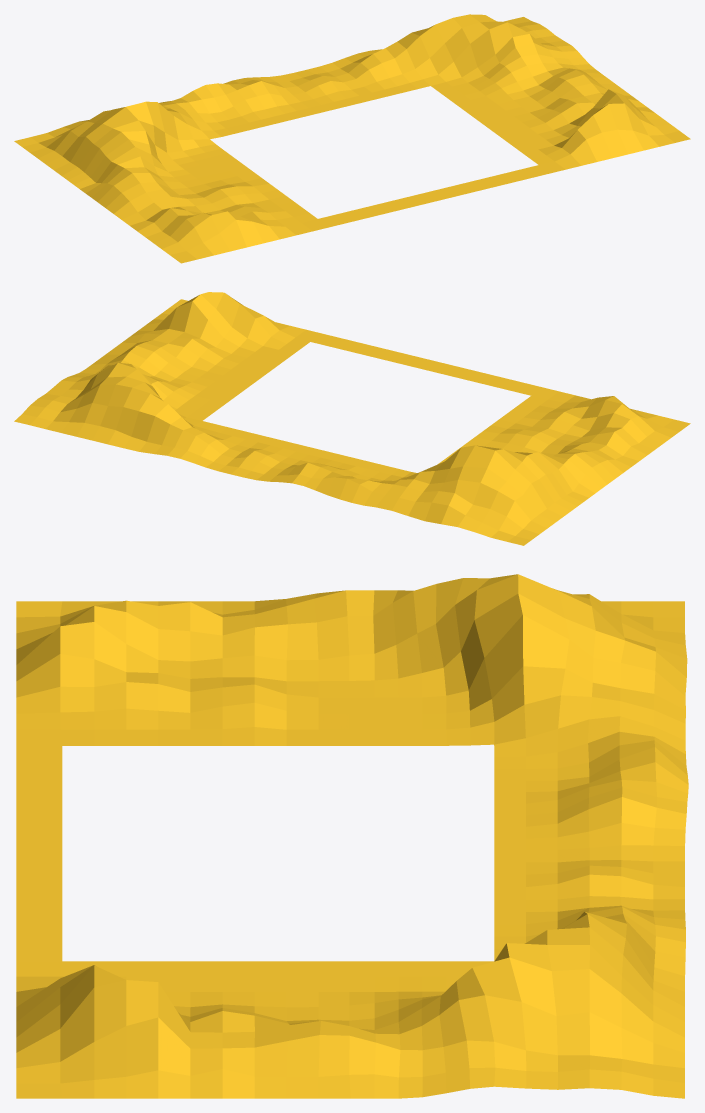
File: Terreno Externo 1.FBX
The picture shows the model from 3 angles, top to bottom: view 1: azimuth 30°, elevation 25°; view 2: azimuth 150°, elevation 25°; view 3: azimuth 270°, elevation 25°; orthographic projection. The views are drawn at different scales.
Visible parts, largest first — view 1: Plane001; view 2: Plane001; view 3: Plane001.
Boxes of the visible parts, <box> form: Plane001: <box>14,14,690,263</box>; Plane001: <box>14,292,690,545</box>; Plane001: <box>16,574,688,1098</box>.
Bounding box in the file's own units: 1393 × 125 × 795.
